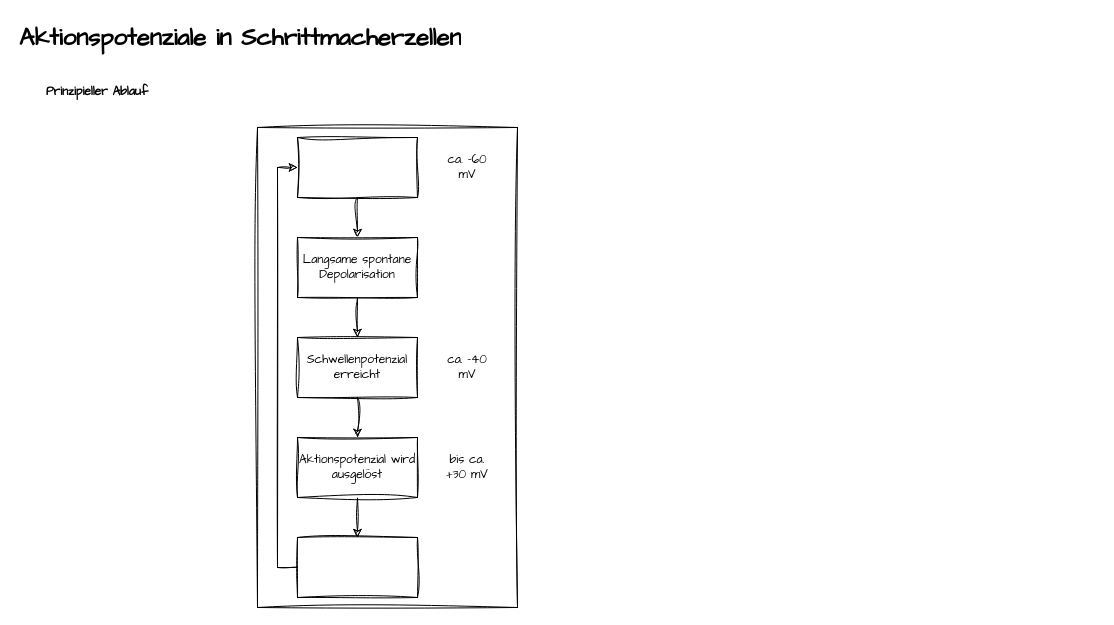
The diagram is 1114 pixels wide and 625 high, and some of its shapes have lost their labels. The centre of each missing label's shape, as x and y in pixels:
"Repolarisation" belongs at (357,567).
"Zelle erreicht maximales diastolisches Potenzial" belongs at (357,167).
